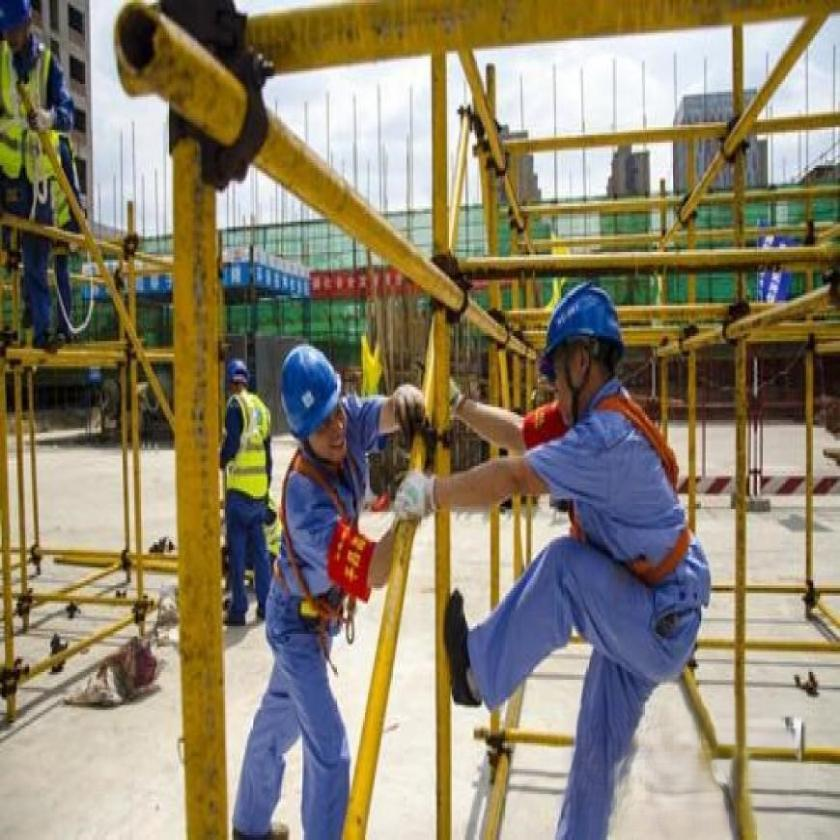Con_casco: (531, 275, 627, 419), (278, 335, 352, 464)
